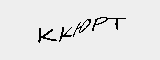К: (37, 24, 57, 44), (58, 23, 73, 44)
Р: (90, 14, 107, 35)
Т: (107, 14, 125, 32)
Ю: (71, 15, 91, 39)
